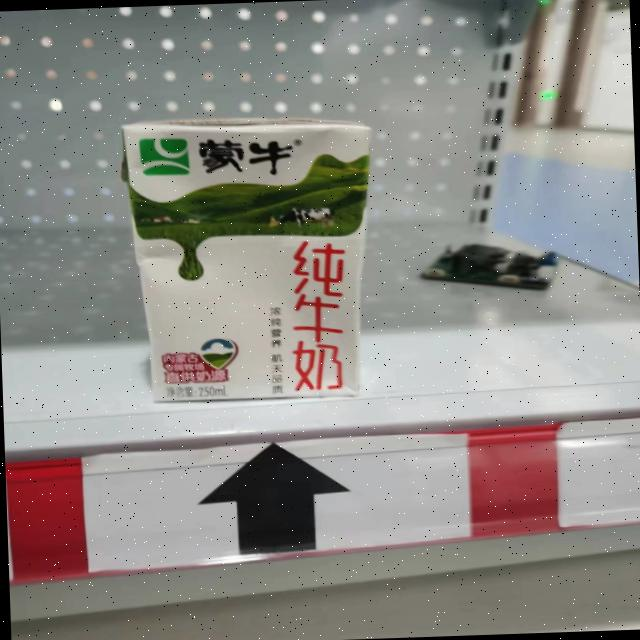mengniu_milk: (125, 118, 367, 246)
